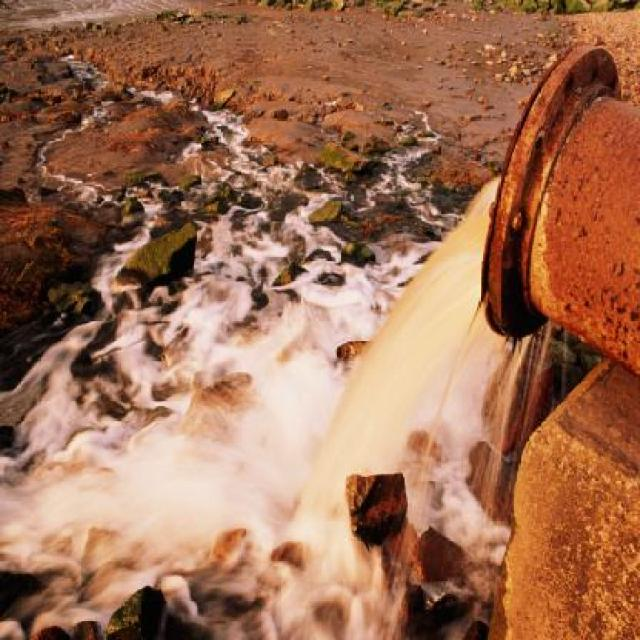corrosion: (478, 46, 640, 400)
